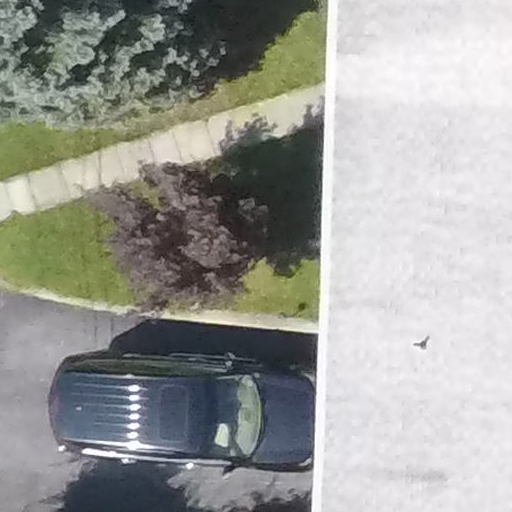car: (36, 321, 321, 479)
